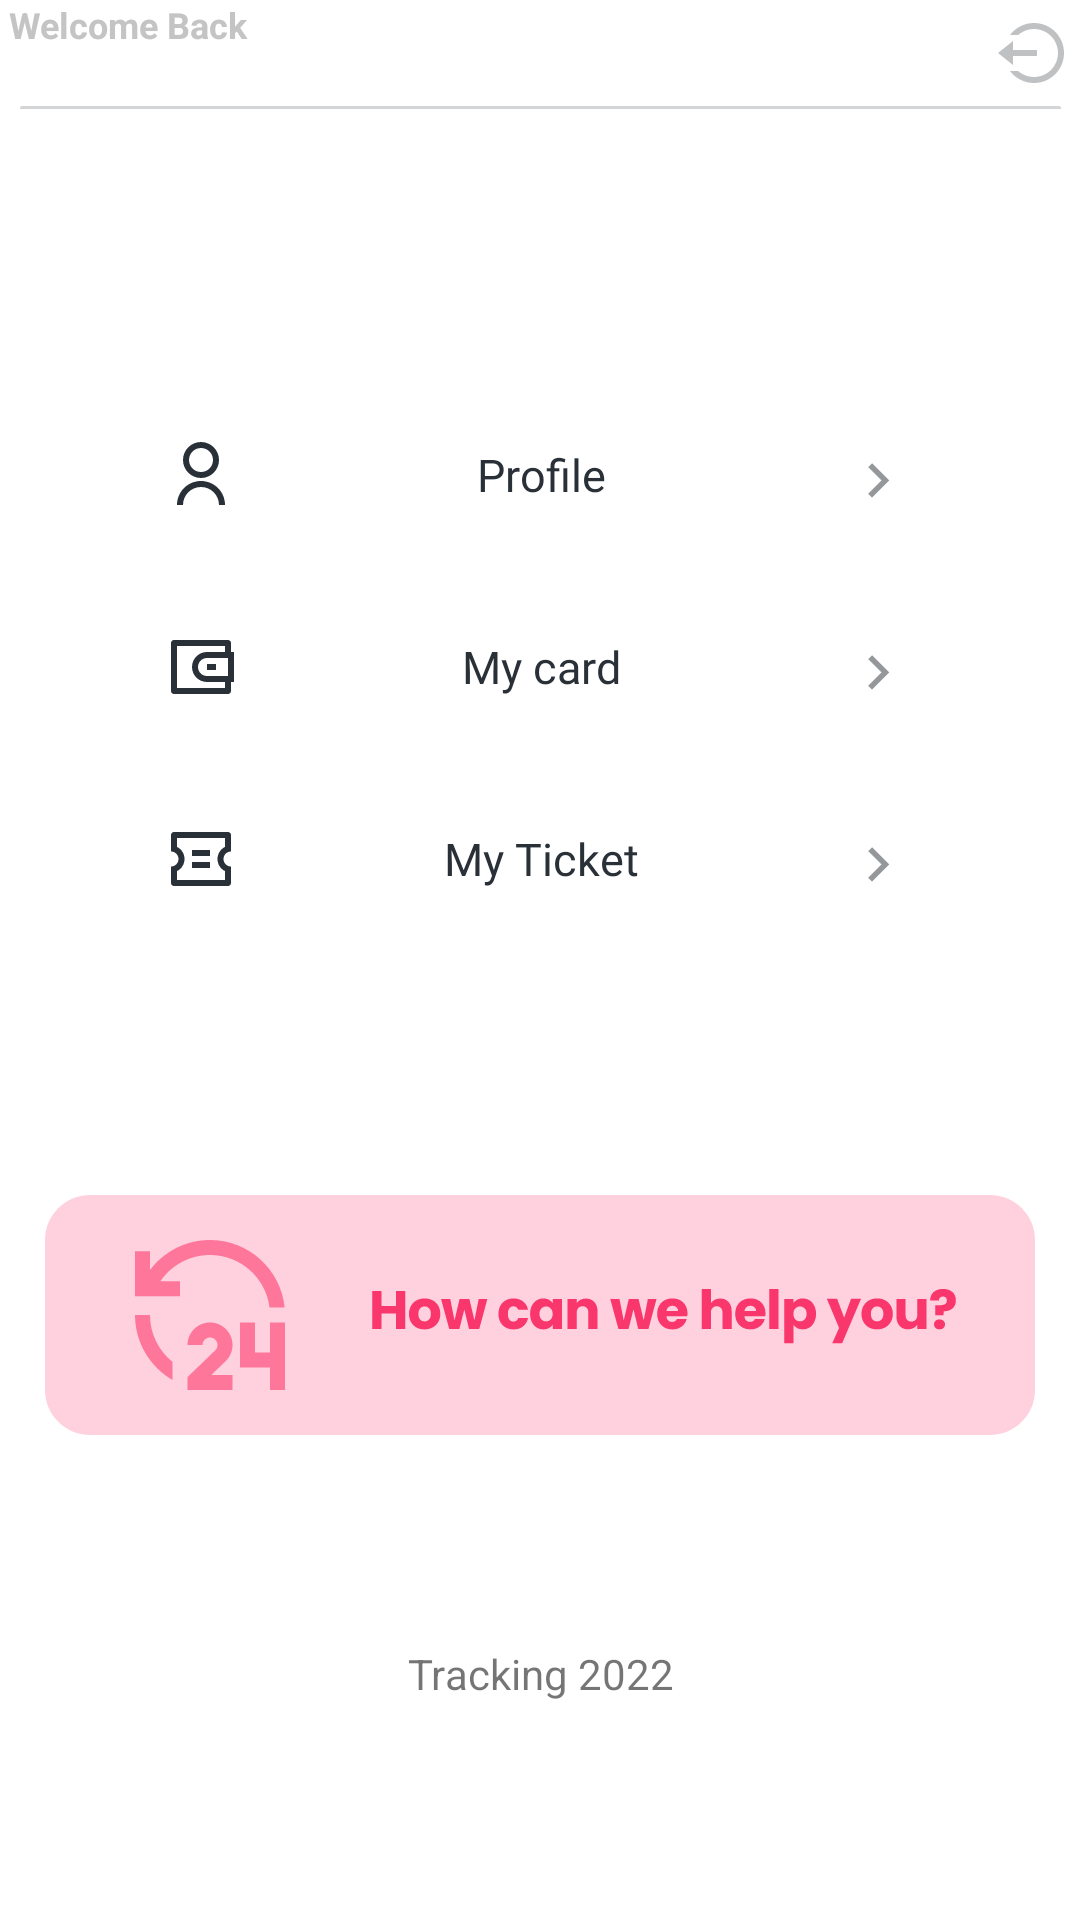

Screen size 1080×1920. Icon name, then its center in pixels as [x,y]:
exit: [1031,53]
hours: [210,1315]
